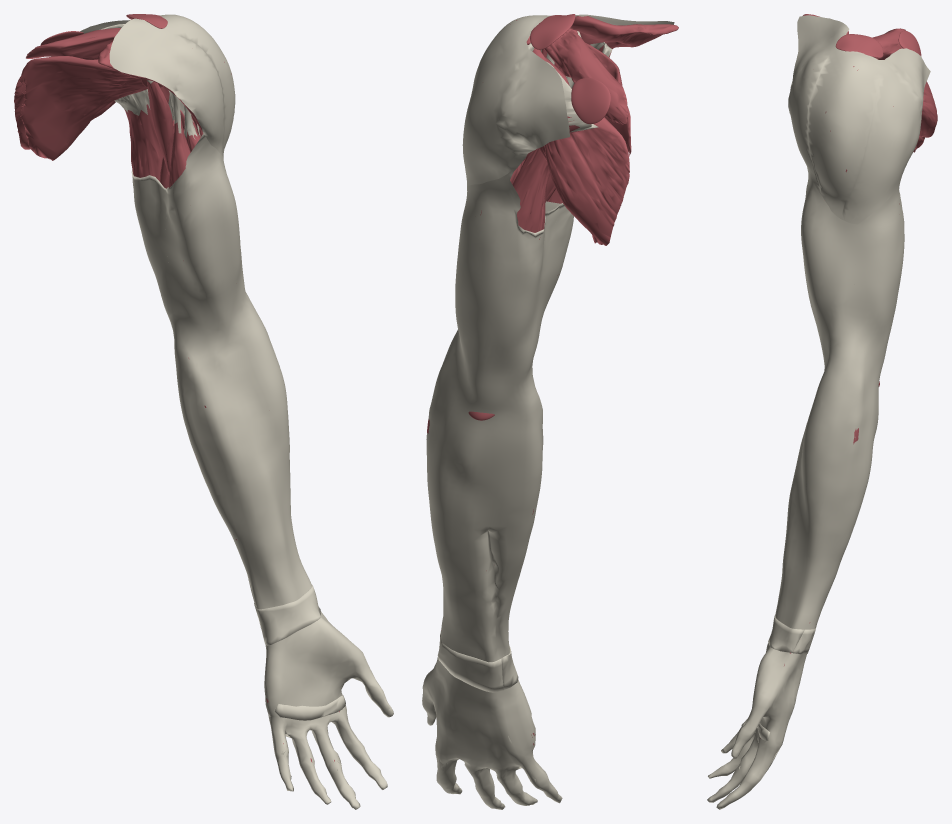
File: detail-muscular-left-upper-limb.glb
3 renders of one model, left to right at view 1: azimuth 30°, elevation 25°; view 2: azimuth 150°, elevation 25°; view 3: azimuth 270°, elevation 25°, orthographic. The views are drawn at different scales.
Visible parts, largest first — view 1: za-988c712dde94b5e1, za-81e573ac5b01fb63, za-58ede7f0af81b574, za-efdb0afe712125f6, za-84c7d3654da90988, za-13175c41cad935e0, za-7c5e88a1ec9adffe, za-0425424460a59648, za-e1db2cde54d2773b, za-9324b86ccce8a729, za-d2ac3625b564ec83, za-71c3acd3b1b399b6; view 2: za-988c712dde94b5e1, za-81e573ac5b01fb63, za-efdb0afe712125f6, za-71c3acd3b1b399b6, za-87ff24e3a85dbdcc, za-0425424460a59648, za-13175c41cad935e0, za-50e681ac8f51247f, za-e52cdaf27c06542d, za-865e3d6ac15f69ca, za-316f41f3e03480c2, za-84c7d3654da90988 (+3 smaller); view 3: za-efdb0afe712125f6, za-988c712dde94b5e1, za-81e573ac5b01fb63, za-71c3acd3b1b399b6, za-58ede7f0af81b574, za-316f41f3e03480c2, za-7c5e88a1ec9adffe, za-87ff24e3a85dbdcc, za-0425424460a59648.
Boxes of the visible parts, box(x1,y1,x2,y2) form: za-988c712dde94b5e1: box(170, 291, 311, 609); za-81e573ac5b01fb63: box(131, 134, 245, 329); za-58ede7f0af81b574: box(264, 616, 393, 809); za-efdb0afe712125f6: box(80, 14, 235, 157); za-84c7d3654da90988: box(19, 56, 147, 160); za-13175c41cad935e0: box(114, 89, 162, 180); za-7c5e88a1ec9adffe: box(256, 585, 320, 645); za-0425424460a59648: box(26, 28, 120, 59); za-e1db2cde54d2773b: box(146, 79, 173, 175); za-9324b86ccce8a729: box(168, 90, 190, 260); za-d2ac3625b564ec83: box(275, 695, 345, 720); za-71c3acd3b1b399b6: box(265, 611, 383, 808); za-988c712dde94b5e1: box(426, 331, 543, 662); za-81e573ac5b01fb63: box(455, 165, 573, 386); za-efdb0afe712125f6: box(462, 14, 674, 186); za-71c3acd3b1b399b6: box(422, 657, 561, 809); za-87ff24e3a85dbdcc: box(530, 43, 629, 245); za-0425424460a59648: box(544, 30, 628, 124); za-13175c41cad935e0: box(512, 148, 549, 239); za-50e681ac8f51247f: box(541, 16, 678, 75); za-e52cdaf27c06542d: box(437, 633, 503, 692); za-865e3d6ac15f69ca: box(571, 78, 610, 124); za-316f41f3e03480c2: box(530, 14, 575, 49); za-84c7d3654da90988: box(585, 42, 631, 244); za-efdb0afe712125f6: box(788, 15, 930, 224); za-988c712dde94b5e1: box(775, 342, 885, 629); za-81e573ac5b01fb63: box(801, 168, 904, 360); za-71c3acd3b1b399b6: box(709, 651, 806, 809); za-58ede7f0af81b574: box(707, 643, 780, 808); za-316f41f3e03480c2: box(835, 34, 883, 57); za-7c5e88a1ec9adffe: box(768, 615, 804, 652); za-87ff24e3a85dbdcc: box(919, 81, 937, 137); za-0425424460a59648: box(872, 28, 905, 59).
Bounding box in the file's own units: 0.2724 × 0.727 × 0.2144.
